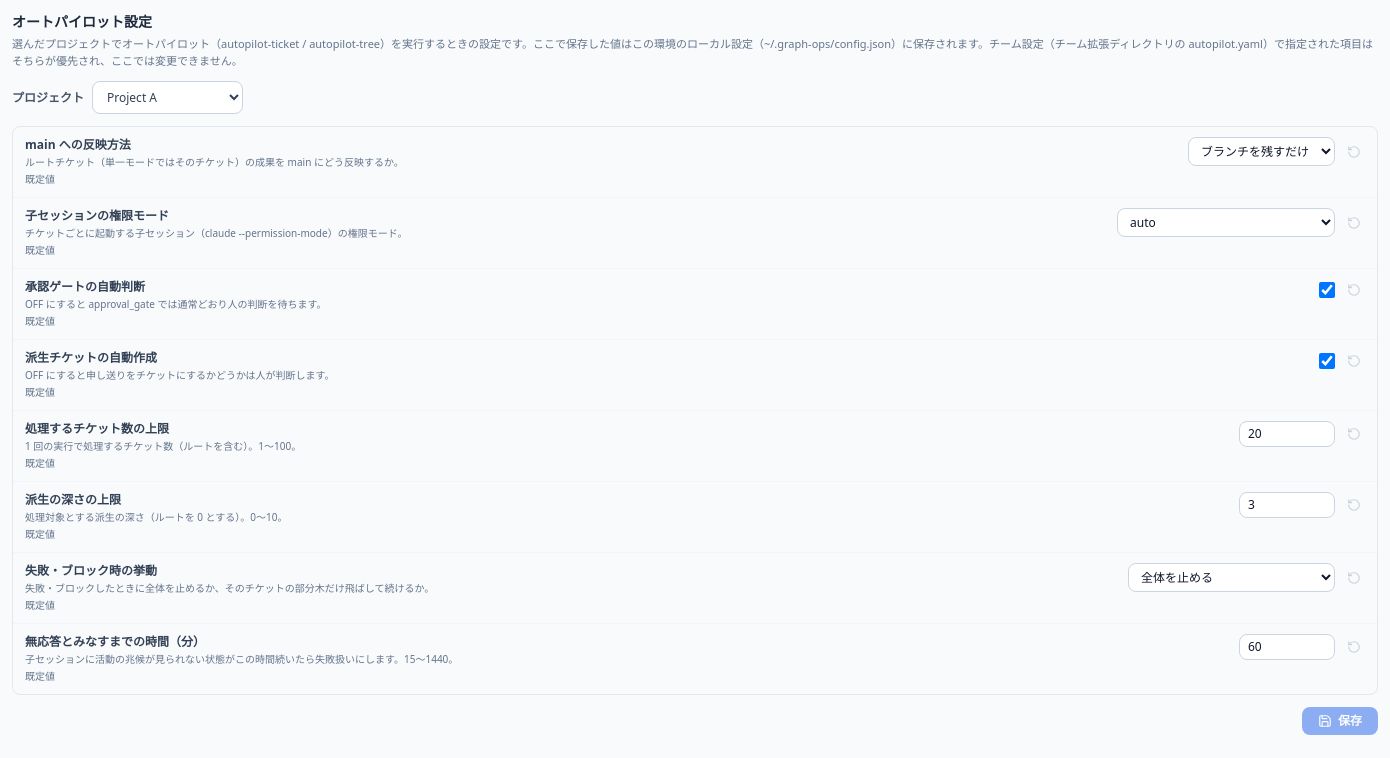
AutopilotSettingsEditor › sends an invalid number as typed so the server validation reports it
The image size is (1390, 758).
Replace the text in the number field labelled "処理するチケット数の上限" with "101" at (1287, 434), box [1239, 421, 1335, 447]
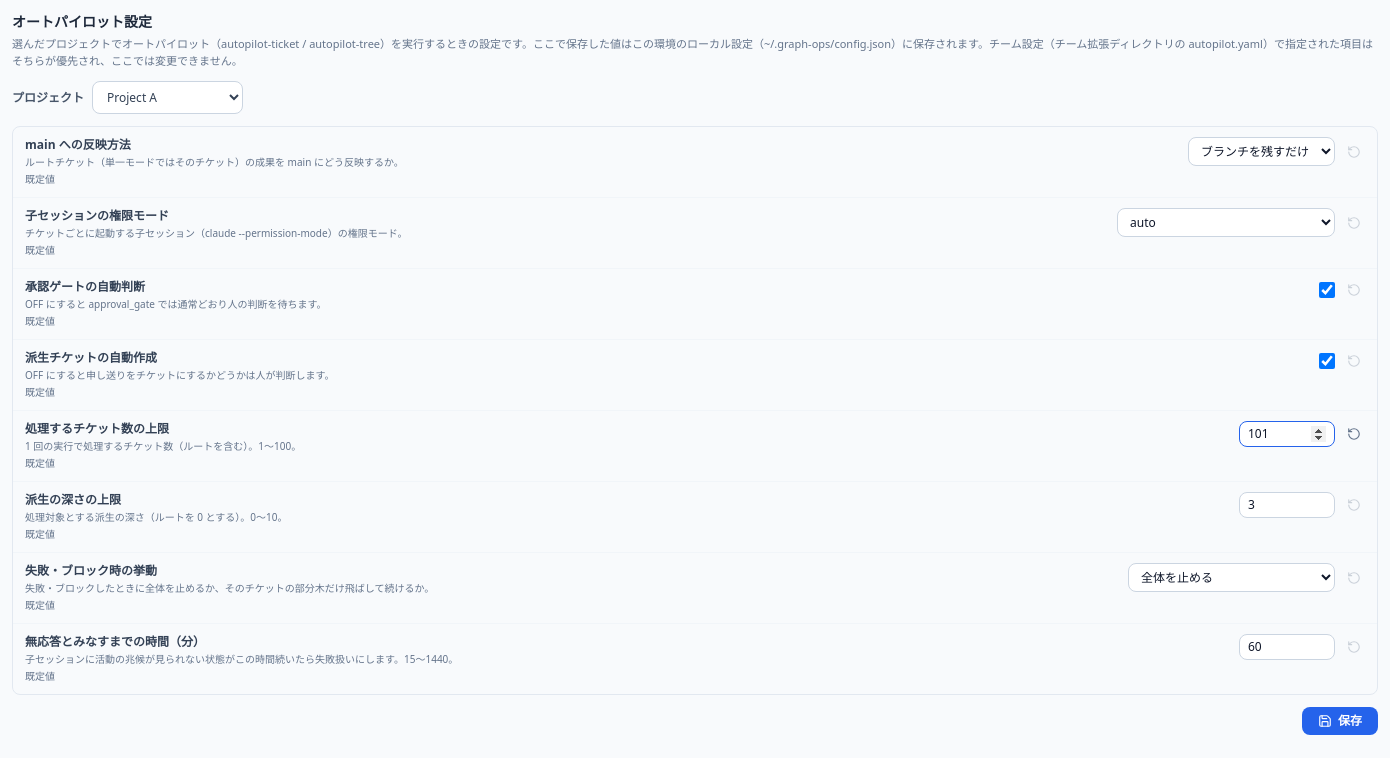
Click the button "保存" at (1340, 721), box [1302, 707, 1378, 735]
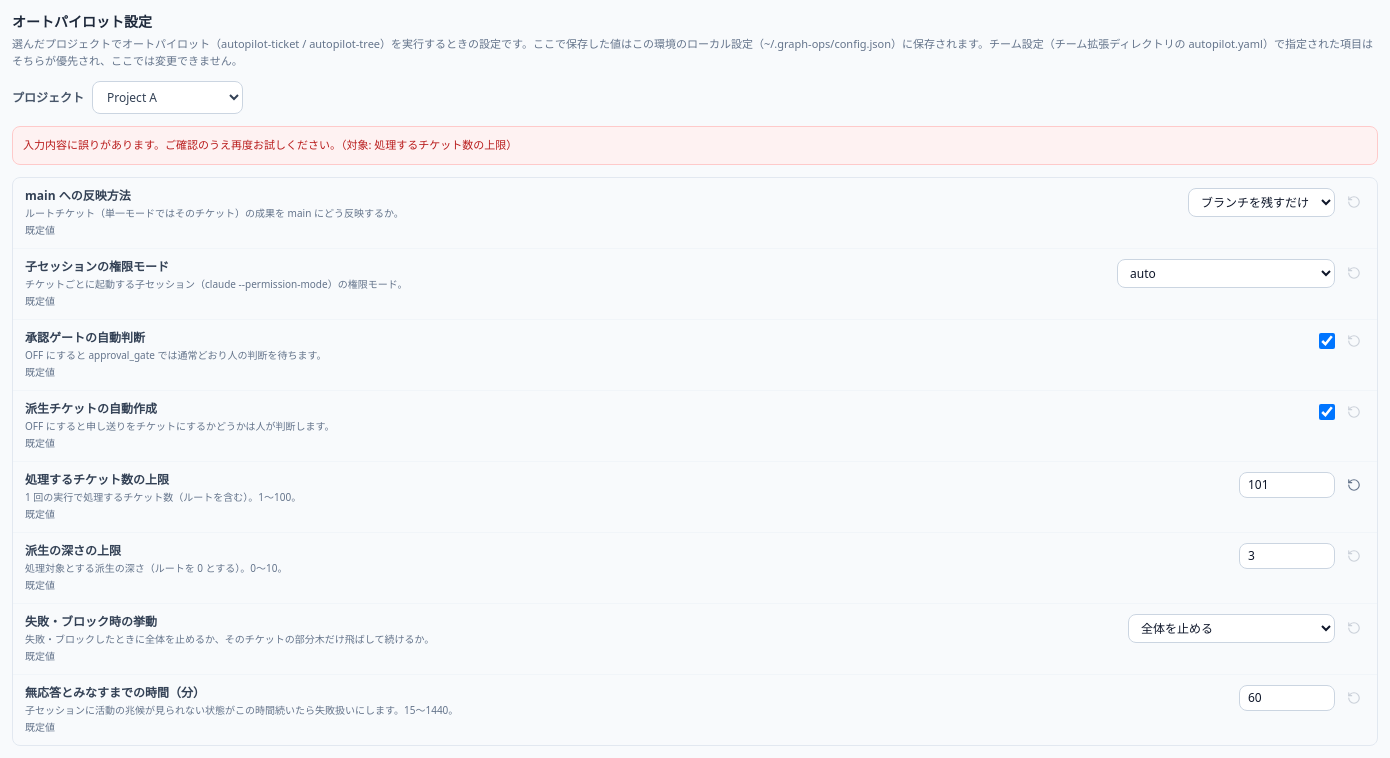
Expected: the message shows "入力内容に誤りがあります。ご確認のうえ再度お試しください。", [23, 137, 517, 152]
